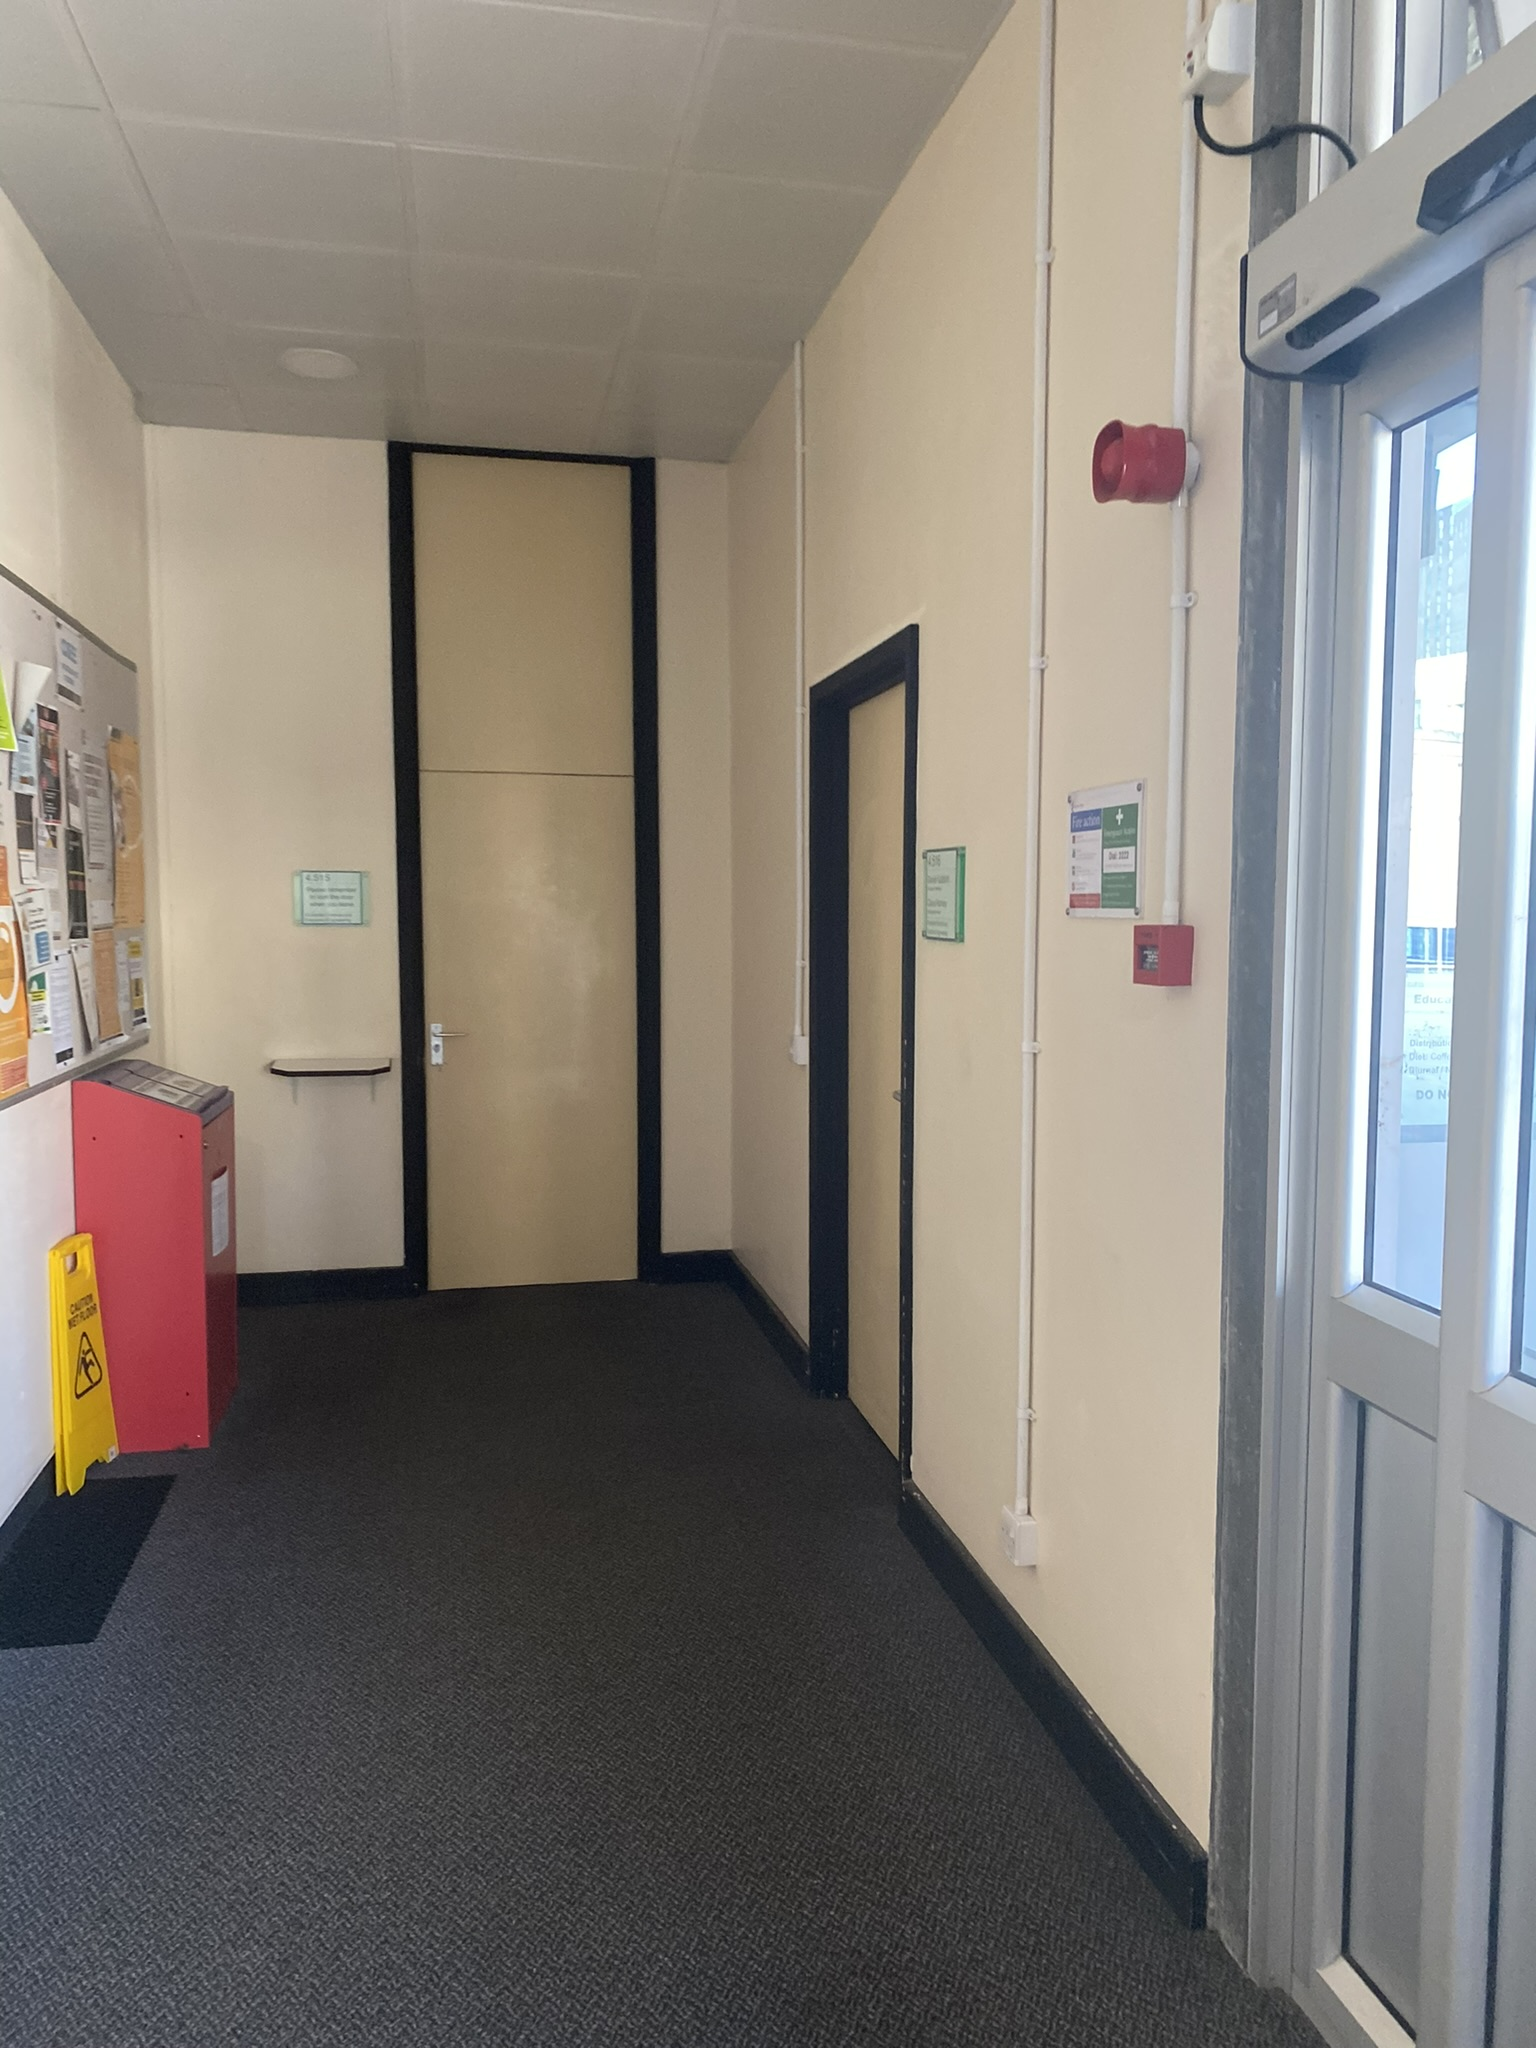door: (1262, 223, 1533, 2045), (395, 439, 673, 1334), (800, 672, 942, 1521)
